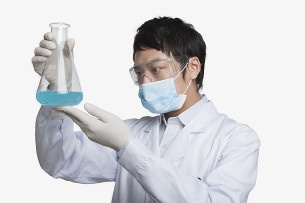Mask: (130, 59, 184, 113)
